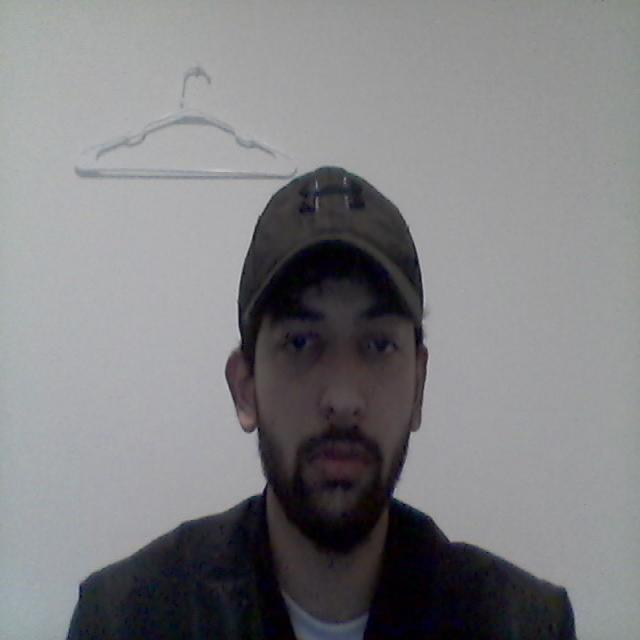cap: (207, 144, 450, 361)
